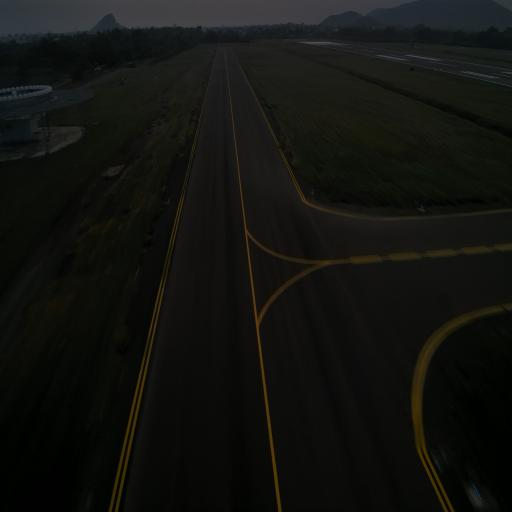on: (419, 202, 426, 212), (166, 196, 172, 206), (310, 186, 315, 196)
